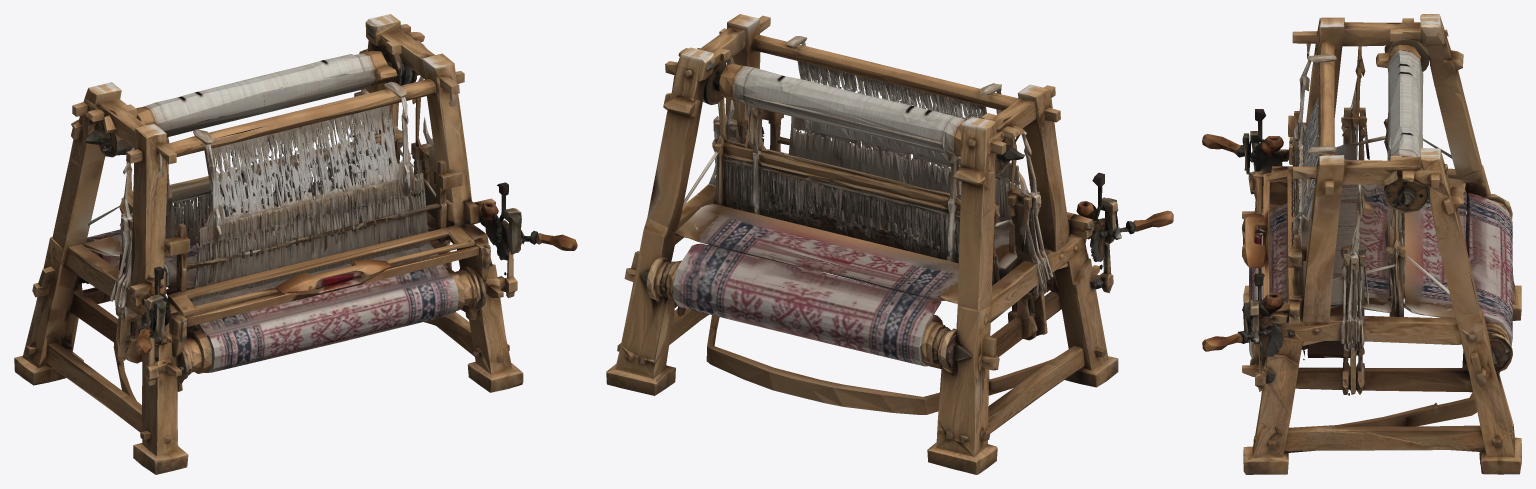
The model's file is loom.glb.
3 views of the same model, side by side, from view 1: azimuth 30°, elevation 25°; view 2: azimuth 150°, elevation 25°; view 3: azimuth 270°, elevation 25° (orthographic). The views are drawn at different scales.
Parts seen in each view (by area): view 1: Hi3D source frame, F02Moving_moving_1, F02Moving_right_1, F02Moving_left_1; view 2: Hi3D source frame, F02Moving_left_1; view 3: Hi3D source frame, F02Moving_moving_1, F02Moving_right_1, F02Moving_left_1.
Part boxes in pixels (x1,y1,x2,y2): Hi3D source frame: (14, 14, 523, 474); F02Moving_moving_1: (275, 259, 391, 294); F02Moving_right_1: (520, 213, 577, 250); F02Moving_left_1: (135, 308, 155, 355); Hi3D source frame: (606, 14, 1118, 474); F02Moving_left_1: (1108, 210, 1173, 243); Hi3D source frame: (1242, 14, 1521, 474); F02Moving_moving_1: (1242, 213, 1263, 267); F02Moving_right_1: (1202, 309, 1262, 351); F02Moving_left_1: (1202, 134, 1253, 162).
Size of the model in its own units: 2.62 by 1.76 by 1.69.
Materials: 1 (1 with a texture image).
